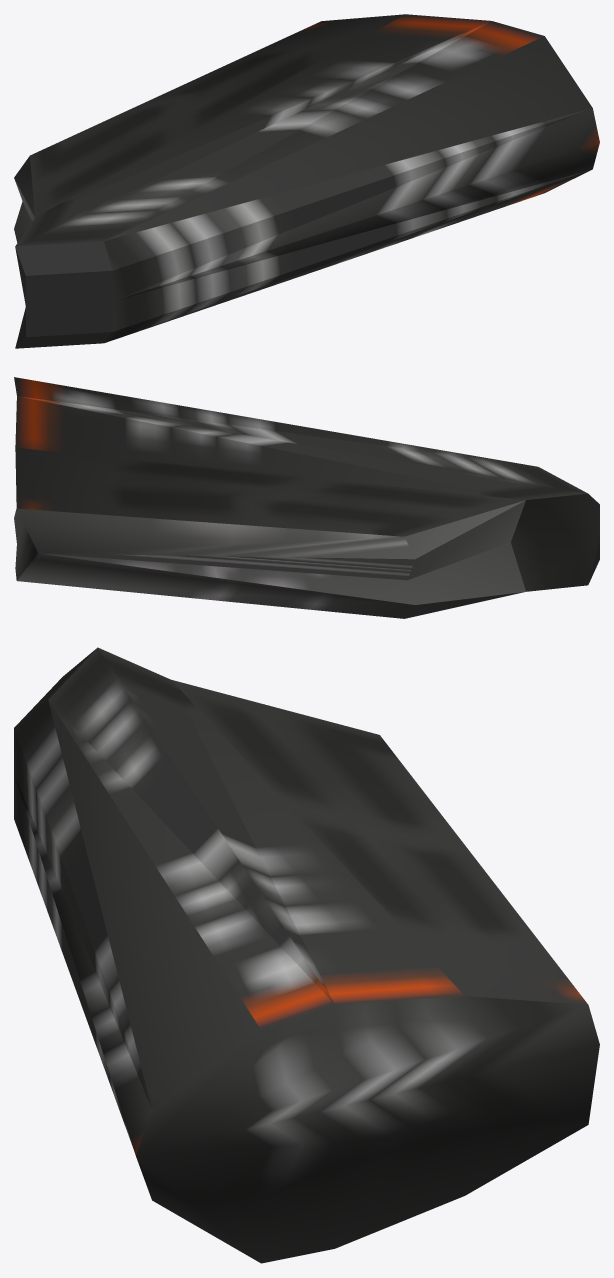
File: ReplikaShotgunStock.fbx
3 renders of one model, top to bottom at view 1: azimuth 30°, elevation 25°; view 2: azimuth 150°, elevation 25°; view 3: azimuth 270°, elevation 25°, orthographic. The views are drawn at different scales.
Visible parts, largest first — view 1: ShotgunGrip; view 2: ShotgunGrip; view 3: ShotgunGrip.
Part boxes in pixels (x1=…): ShotgunGrip: x1=14, y1=14, x2=599, y2=348; ShotgunGrip: x1=14, y1=377, x2=599, y2=618; ShotgunGrip: x1=14, y1=647, x2=599, y2=1263.
Bounding box in the file's own units: 0.0308 × 0.1173 × 0.0669.
